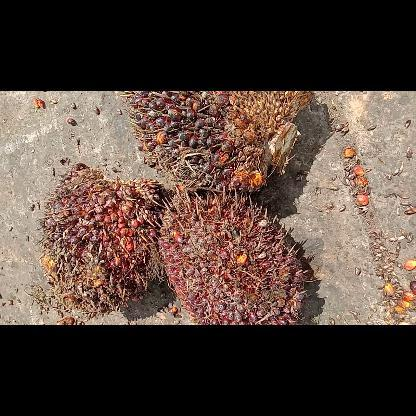Kurang masak: (37, 160, 161, 314)
TBS masak: (157, 188, 311, 324), (116, 91, 316, 195)
